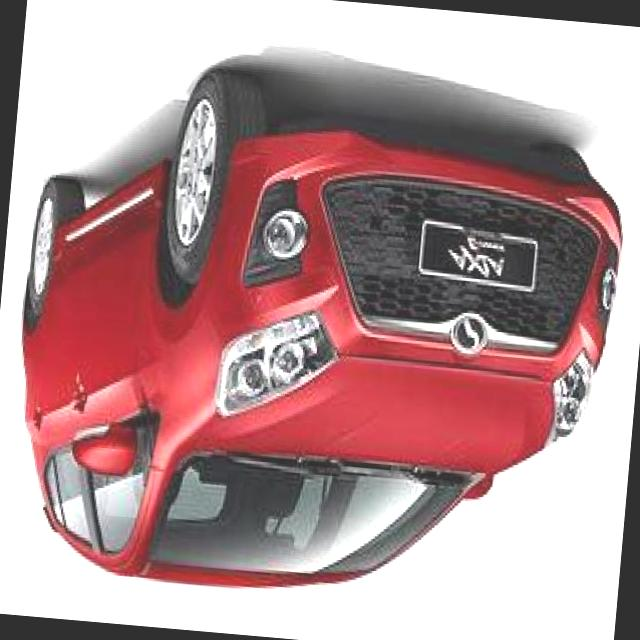PeroduaAxia: (0, 51, 635, 621)
